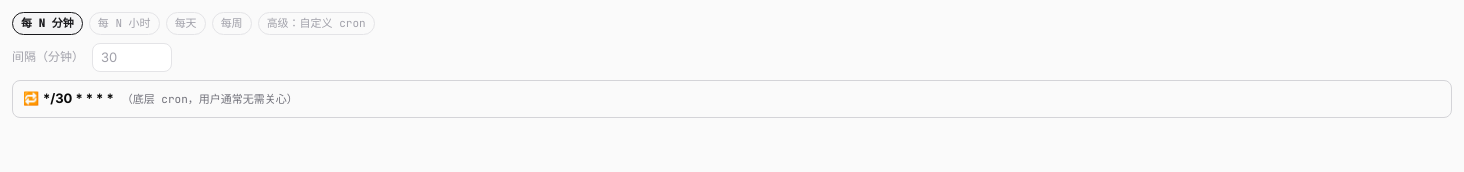
Scenario: ComponentCronFreqPicker › 切到 advanced → raw input 出现
Click the button "高级：自定义 cron" at (316, 23), box [258,12,375,34]
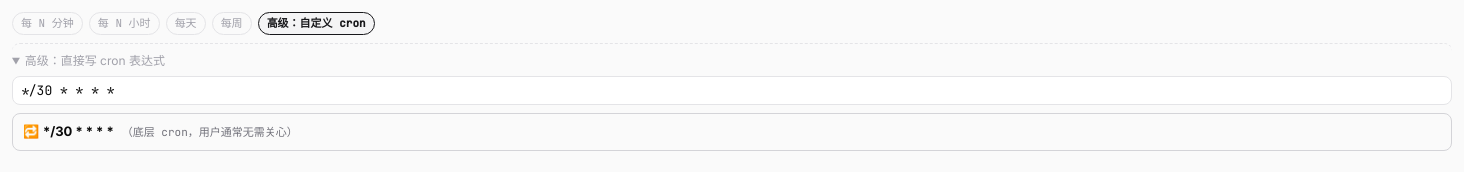
Result: the field is shown at [12,76,1452,105]
